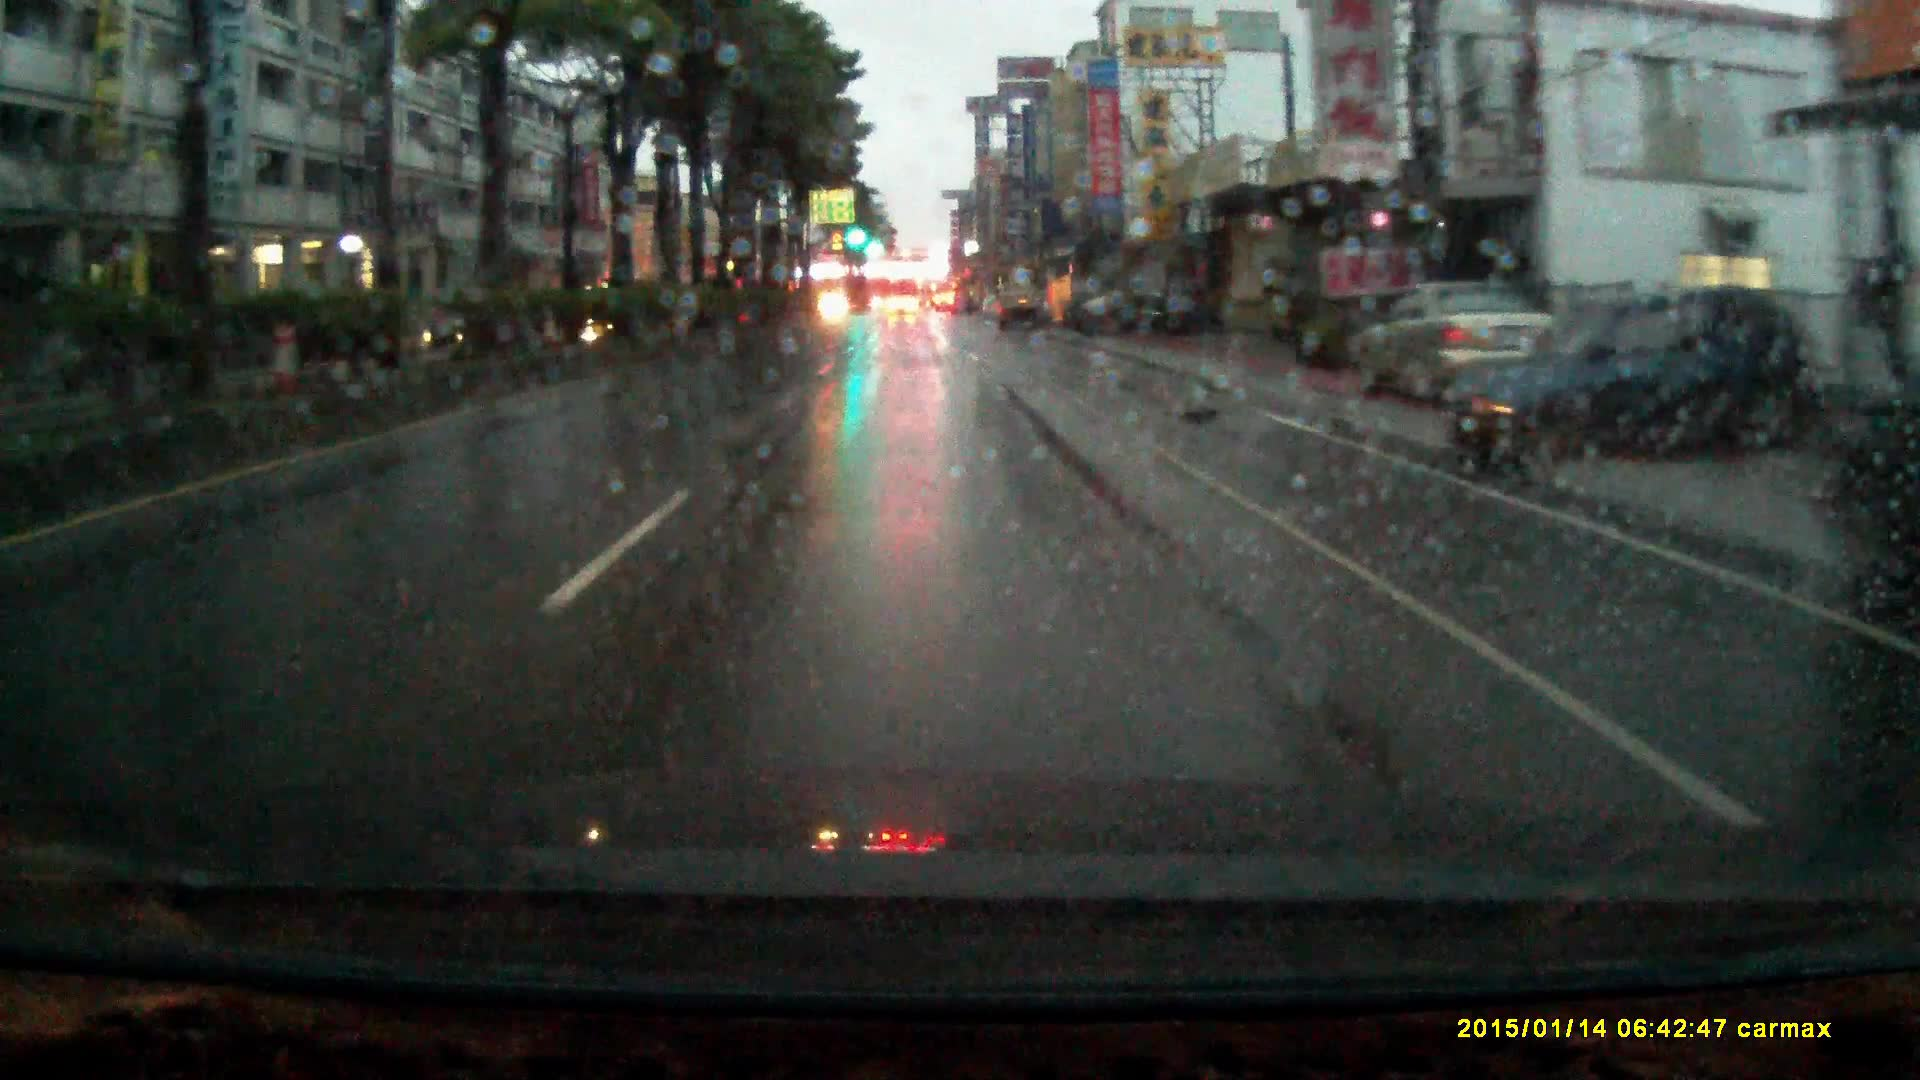vehicle: (1451, 287, 1840, 472), (1345, 284, 1561, 396), (1064, 291, 1222, 338), (994, 285, 1044, 334), (886, 295, 919, 319)
